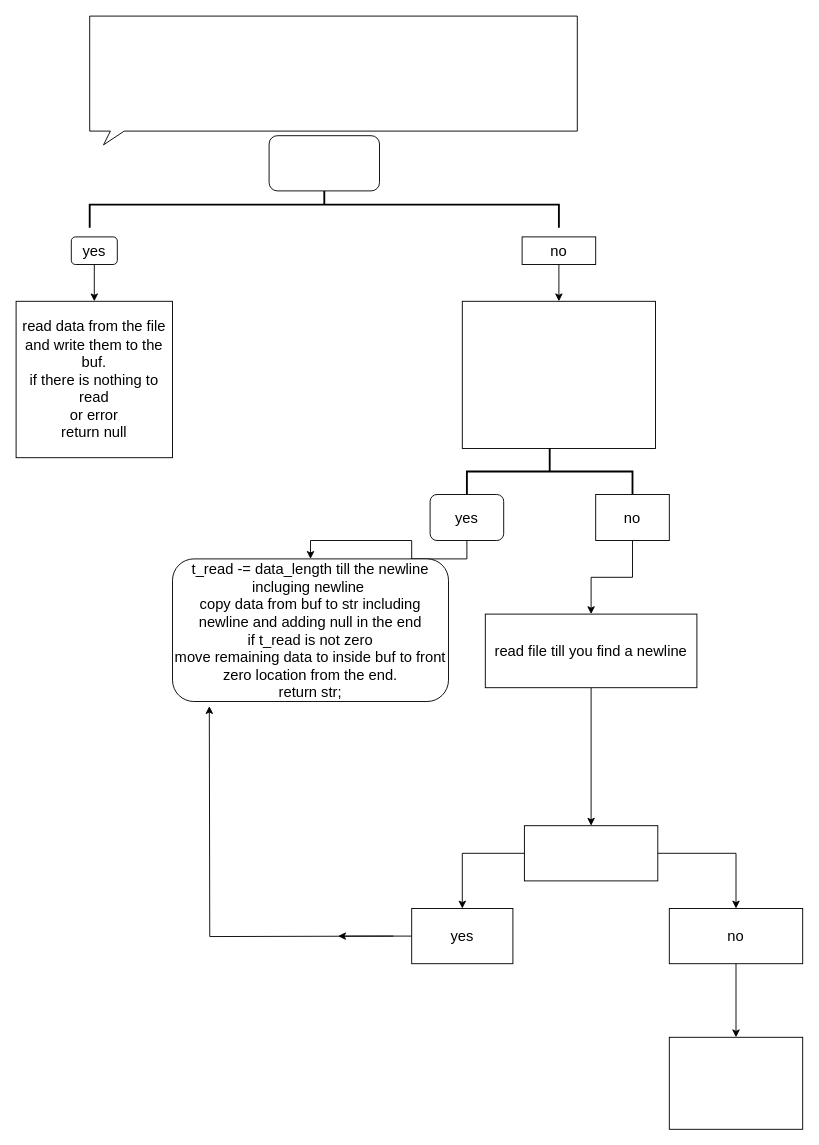
Image size: 819x1145. Some labels were removed from this diagram. The centre of each missing label's shape, as x and y in pixels:
"copy t_read of data to the str ending with null charecter inside" belongs at (735,1082).
"did you find a newline" belongs at (590,853).
"function: get_next_line static char *buf = NULL; static int t_ret = 0;" belongs at (333,80).
"i t_ret value == 0?" belongs at (324,163).
"is there a newline charecter inside?" belongs at (558,374).
